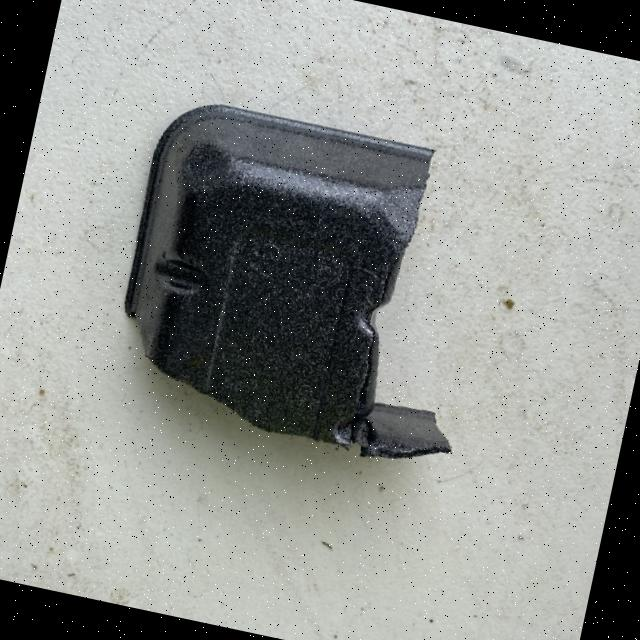styrofoam: (98, 88, 512, 476)
